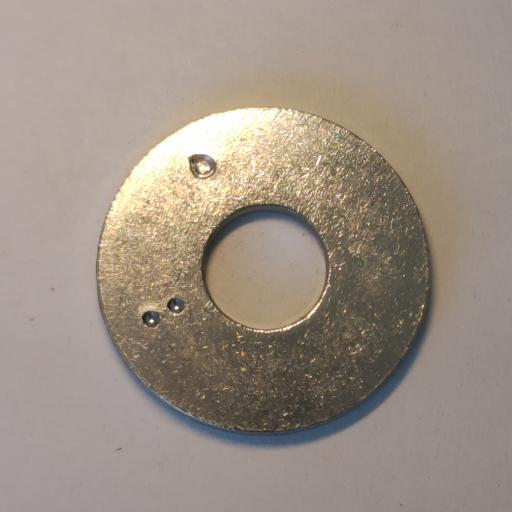circular_cavity: (188, 154, 217, 179), (142, 311, 160, 328), (167, 298, 185, 314)
